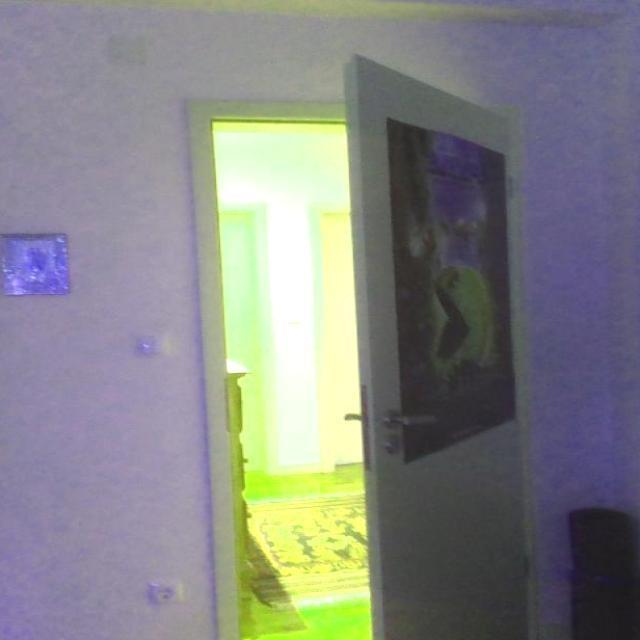door: (343, 51, 538, 638)
